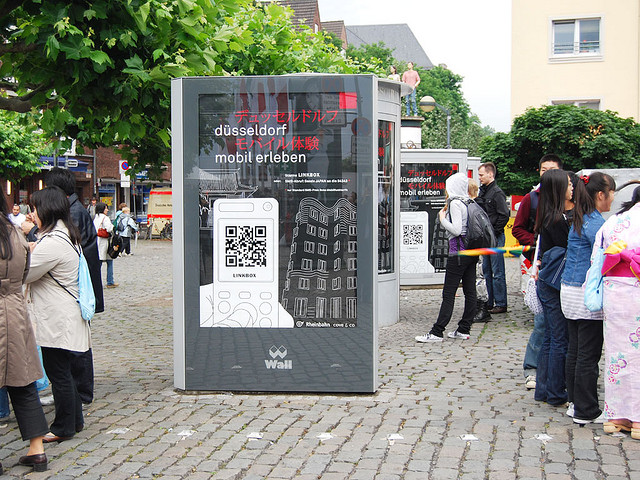QR-CODE: (225, 226, 265, 266), (403, 225, 422, 244)
